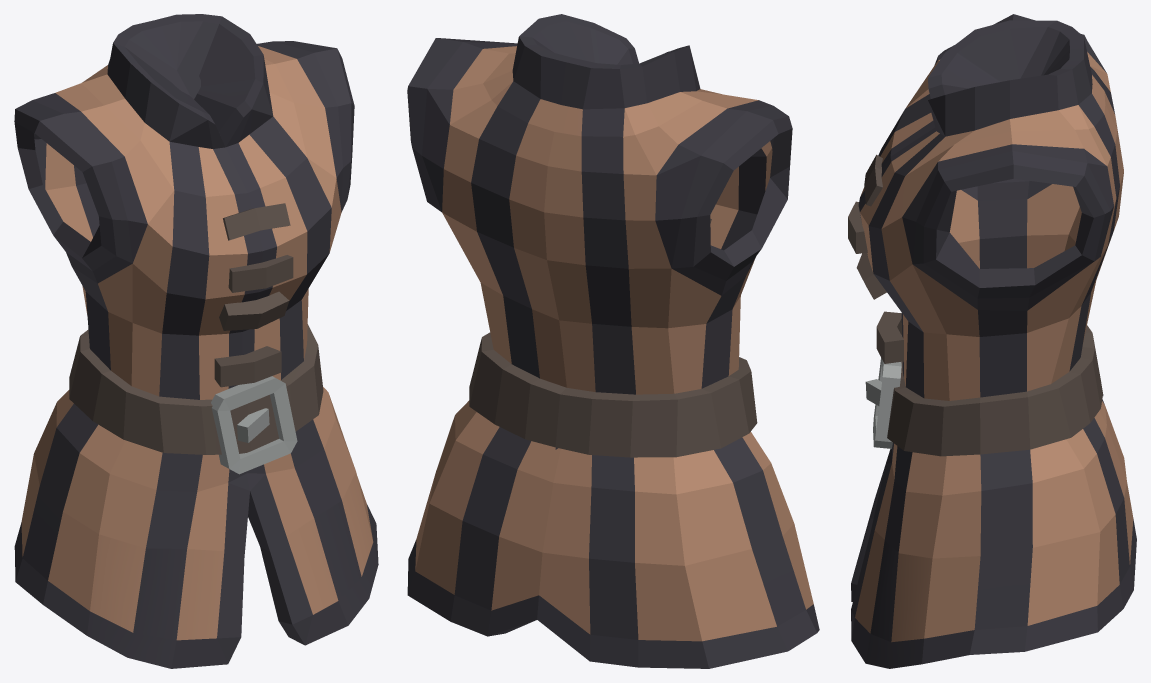
File: armorGambesonDisplay.fbx
3 renders of one model, left to right at view 1: azimuth 30°, elevation 25°; view 2: azimuth 150°, elevation 25°; view 3: azimuth 270°, elevation 25°, orthographic. The views are drawn at different scales.
Visible parts, largest first — view 1: armorGambesonDisplay; view 2: armorGambesonDisplay; view 3: armorGambesonDisplay.
Part boxes in pixels (x1,y1,x2,y2): armorGambesonDisplay: (14, 14, 378, 668); armorGambesonDisplay: (407, 14, 819, 668); armorGambesonDisplay: (848, 14, 1136, 668).
Bounding box in the file's own units: 1.1 × 1.73 × 0.791.
